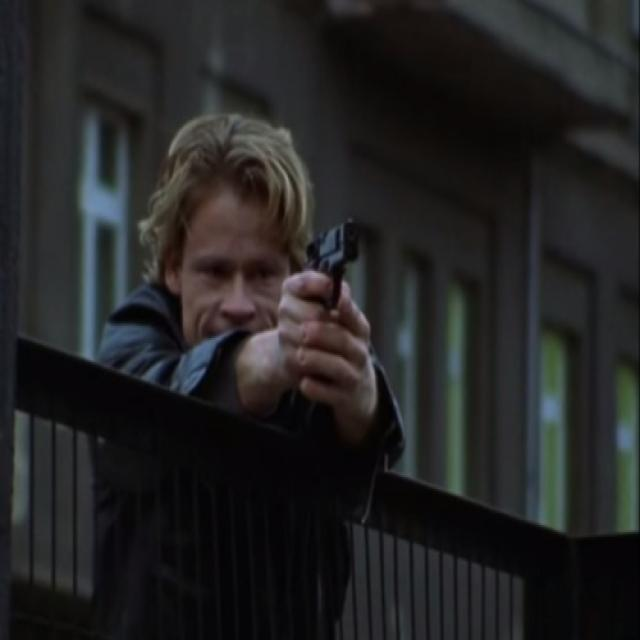weapons: (289, 206, 369, 322)
